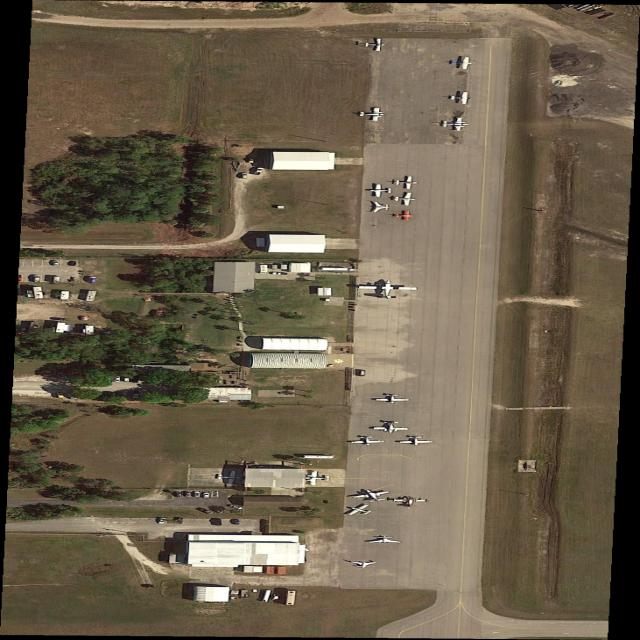large-vehicle: (260, 265, 269, 274), (53, 276, 61, 283)
plane: (356, 280, 418, 300), (348, 487, 396, 504), (341, 502, 379, 519), (373, 421, 410, 434), (440, 117, 471, 132), (357, 107, 387, 122), (394, 496, 429, 508), (391, 192, 419, 207), (214, 470, 243, 484), (305, 471, 332, 486), (400, 436, 435, 447), (352, 436, 386, 447), (394, 176, 420, 190), (449, 56, 475, 70), (448, 91, 473, 105), (376, 394, 410, 404), (369, 183, 393, 197), (365, 38, 387, 52), (369, 535, 403, 544), (350, 561, 378, 569), (373, 202, 390, 213), (396, 211, 414, 221)
ship: (231, 161, 243, 173)
small-vehicle: (197, 508, 216, 515), (252, 168, 266, 176), (208, 507, 225, 513), (90, 276, 101, 285), (131, 390, 142, 399), (229, 504, 245, 510), (67, 392, 79, 400), (56, 392, 67, 399), (212, 519, 223, 526), (172, 491, 183, 498), (201, 492, 211, 499), (175, 517, 185, 524), (183, 491, 193, 498), (51, 317, 68, 321), (230, 519, 241, 525), (131, 376, 140, 383), (33, 275, 42, 282), (158, 518, 167, 525), (271, 272, 290, 275), (114, 376, 122, 383), (69, 261, 78, 267), (193, 492, 202, 498), (123, 376, 131, 382), (52, 261, 61, 266), (242, 173, 249, 179), (360, 370, 366, 376)
